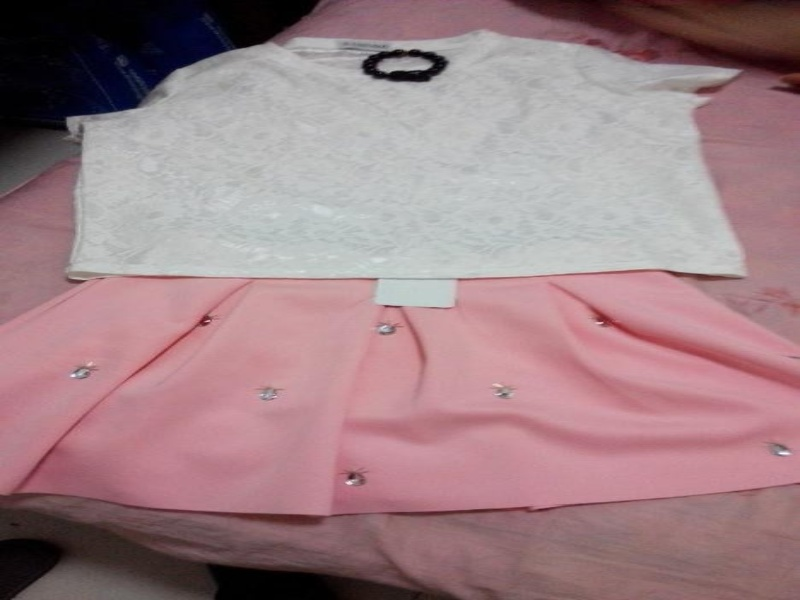short_sleeved_shirt: (63, 30, 750, 282)
skirt: (0, 244, 798, 521)
